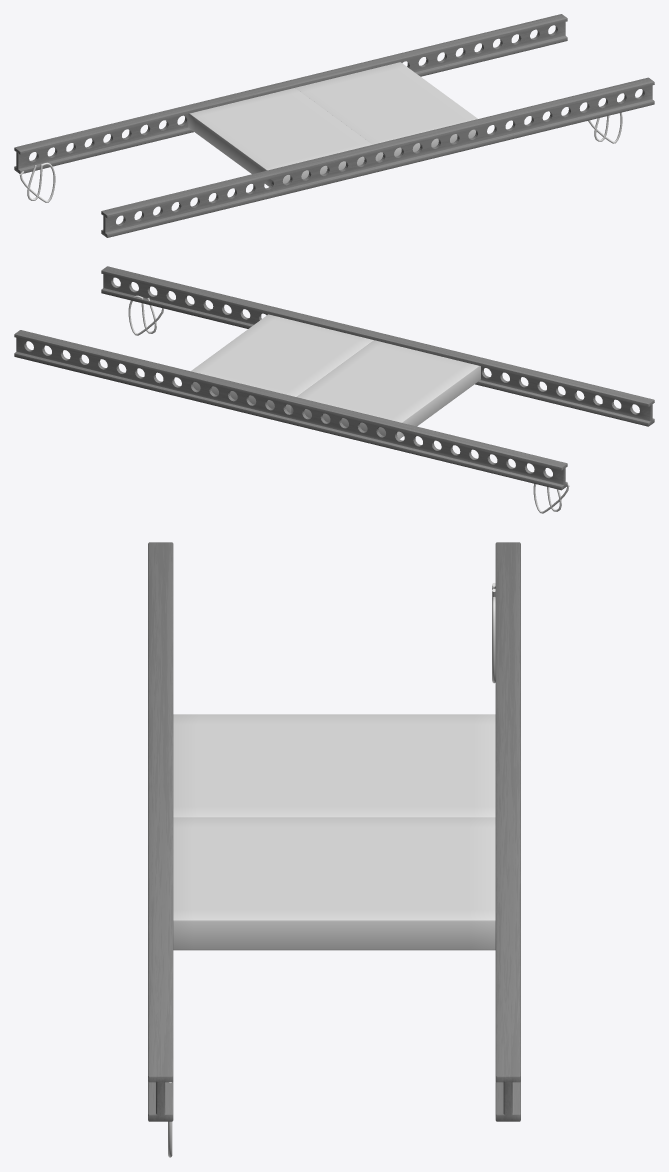
File: Bunker ceiling doors.fbx
3 renders of one model, top to bottom at view 1: azimuth 30°, elevation 25°; view 2: azimuth 150°, elevation 25°; view 3: azimuth 270°, elevation 25°, orthographic. The views are drawn at different scales.
Visible parts, largest first — view 1: metal beam001, metal beam, ceillng door left, ceillng door right, wire 2; view 2: metal beam, metal beam001, ceillng door left, ceillng door right, wire; view 3: ceillng door right, ceillng door left, metal beam, metal beam001.
Part boxes in pixels (x1,y1,x2,y2): metal beam001: [101, 77, 654, 237]; metal beam: [14, 14, 567, 173]; ceillng door left: [188, 88, 377, 186]; ceillng door right: [295, 62, 477, 160]; wire 2: [19, 162, 55, 202]; metal beam: [14, 330, 567, 490]; metal beam001: [101, 266, 654, 426]; ceillng door left: [291, 340, 480, 438]; ceillng door right: [191, 314, 373, 413]; wire: [128, 295, 163, 335]; ceillng door right: [173, 817, 495, 950]; ceillng door left: [173, 714, 495, 817]; metal beam: [495, 542, 520, 1121]; metal beam001: [148, 542, 173, 1121].
Bounding box in the file's own units: 296 × 29.42 × 87.03.
